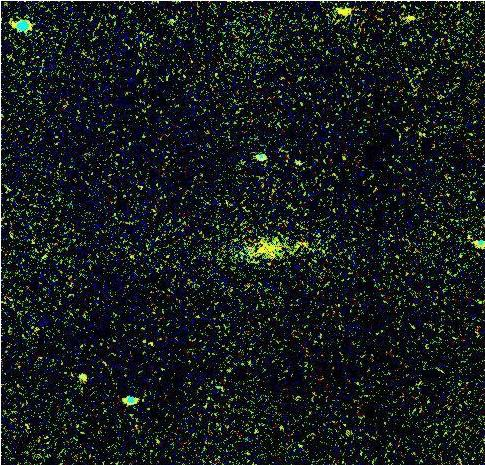star: (328, 0, 358, 25)
